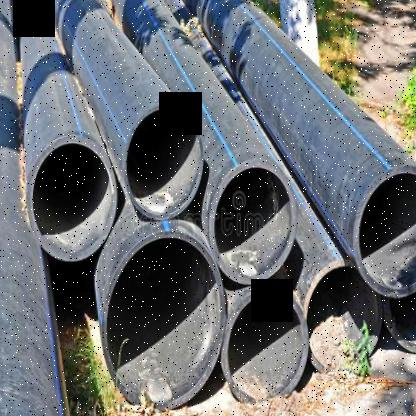pipe: (101, 231, 226, 411), (208, 159, 299, 284), (27, 135, 117, 261), (222, 288, 309, 403), (122, 103, 204, 220), (303, 260, 382, 370), (352, 164, 416, 298)
